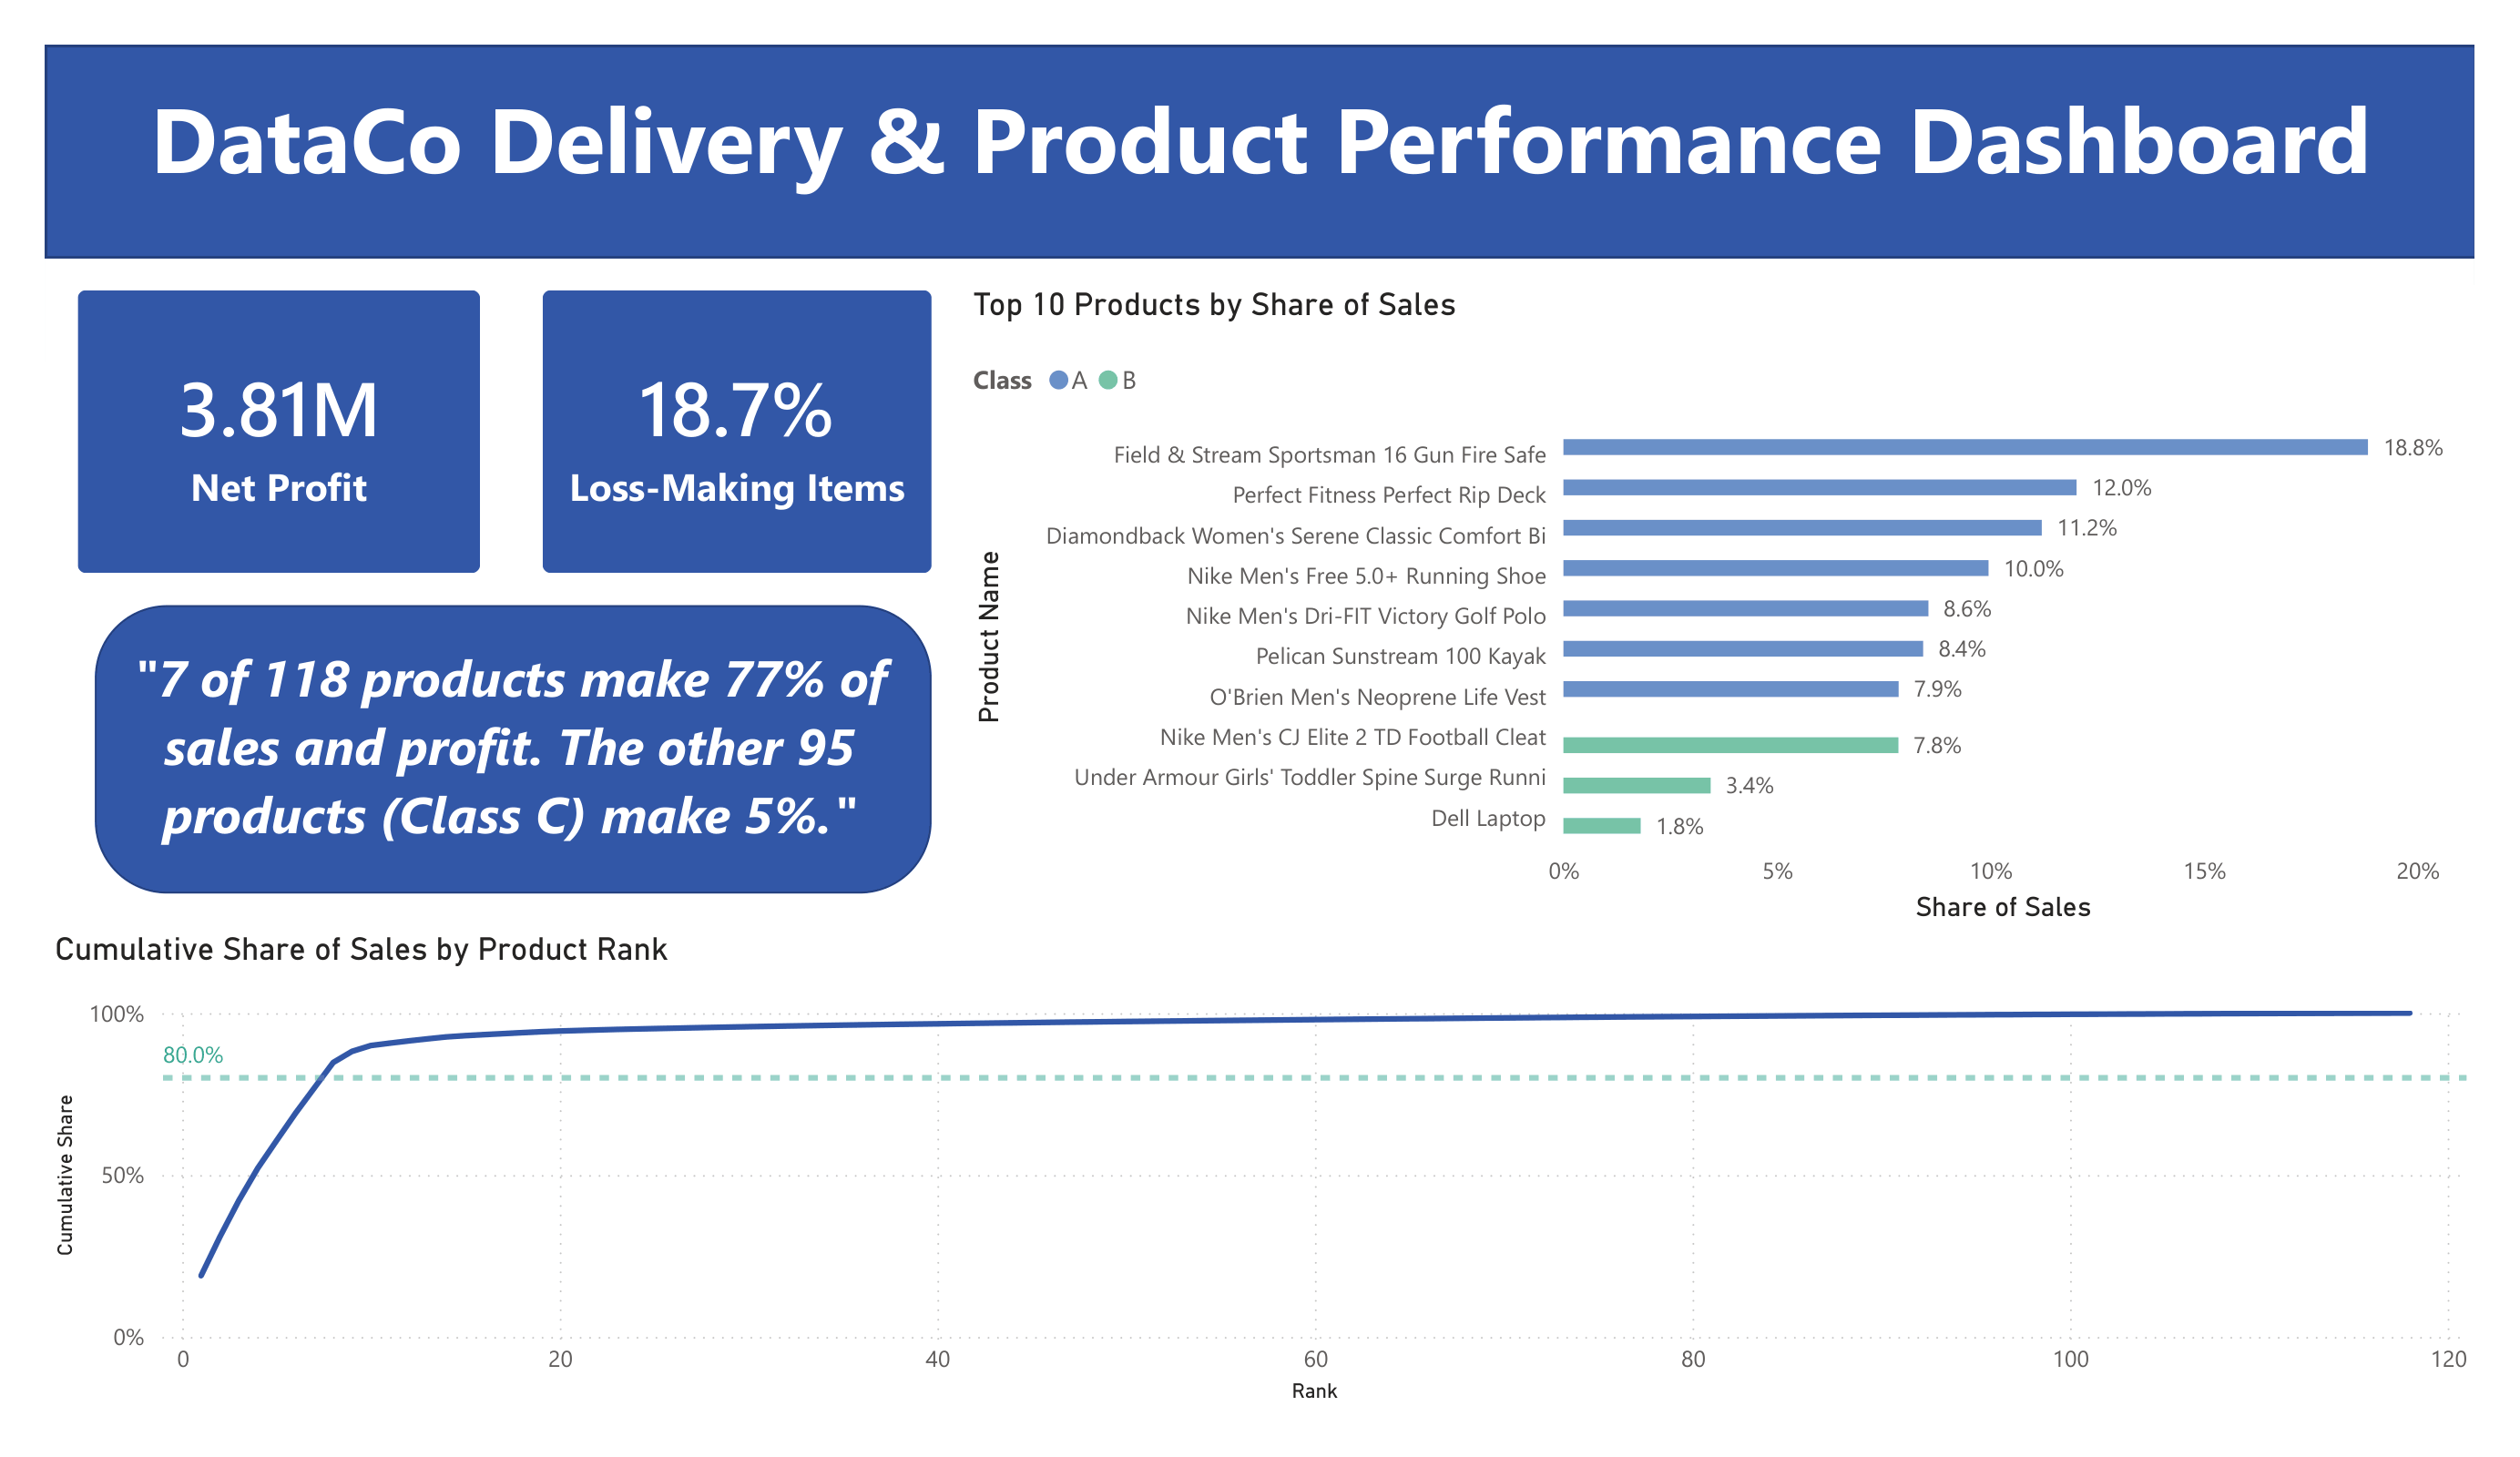

Layout of this report page (visuals, bound fields, positions):
{"tool":"powerbi","page":{"name":"Profit and Products","canvas":[1280,720],"ordinal":1},"visuals":[{"type":"cardVisual","fields":{"Data":["Avg(dataco_clean.is_loss)"]},"box":[244.9,111.7,239.2,183.3],"z":0},{"type":"cardVisual","fields":{"Data":["Sum(dataco_clean.Benefit per order)"]},"box":[0,111.7,246.4,183.3],"z":1000},{"type":"clusteredBarChart","title":"Top 10 Products by Share of Sales","fields":{"Category":["dataco_abc.Product Name"],"Y":["Sum(dataco_abc.share)"],"Series":["dataco_abc.class"]},"box":[484.1,126.1,796.4,339.5],"z":2000},{"type":"lineChart","title":"Cumulative Share of Sales by Product Rank","fields":{"Category":["dataco_abc.rank"],"Y":["Max(dataco_abc.cumulative_share)"]},"box":[0,465.5,1280.6,255],"z":3000},{"type":"shape","box":[0,0,1280.6,111.7],"z":4000},{"type":"shape","box":[25.8,295.1,441.2,151.8],"z":5000},{"type":"textbox","box":[31.5,309.4,425.4,121.8],"z":6000},{"type":"textbox","box":[0,10,1280.6,88.8],"z":7000}]}

Visuals, with their boxes on the page's 1280x720 design canvas (x1, y1, x2, y2). These are canvas units, not pixel positions in the 2520x1457 screenshot, which may show the page scaled, cropped or inside an application window:
cardVisual - Avg(dataco_clean.is_loss): region(245, 112, 484, 295)
cardVisual - Sum(dataco_clean.Benefit per order): region(0, 112, 246, 295)
"Top 10 Products by Share of Sales" clusteredBarChart: region(484, 126, 1280, 466)
"Cumulative Share of Sales by Product Rank" lineChart: region(0, 466, 1281, 720)
shape: region(0, 0, 1281, 112)
shape: region(26, 295, 467, 447)
textbox: region(32, 309, 457, 431)
textbox: region(0, 10, 1281, 99)
